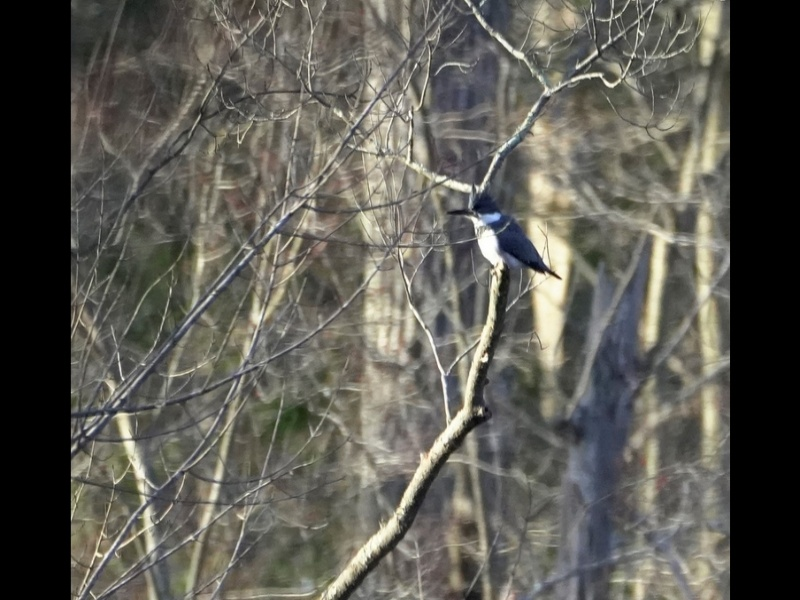kingfisher: (450, 191, 561, 283)
